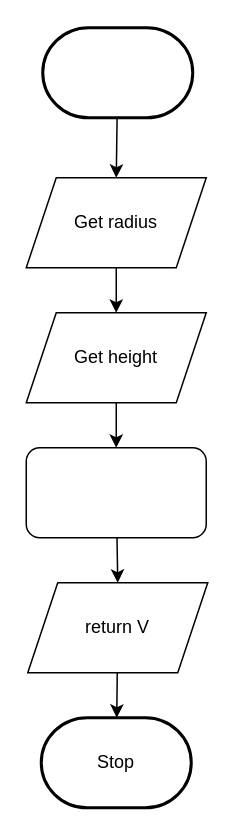
The diagram is 234 pixels wide and 834 high, and some of its shapes have lost their labels. The box of each missing label's shape, as (x1, y1, x2, y2) in pixels:
Start: (40, 26, 194, 118)
V = πr^2h: (25, 446, 206, 538)
